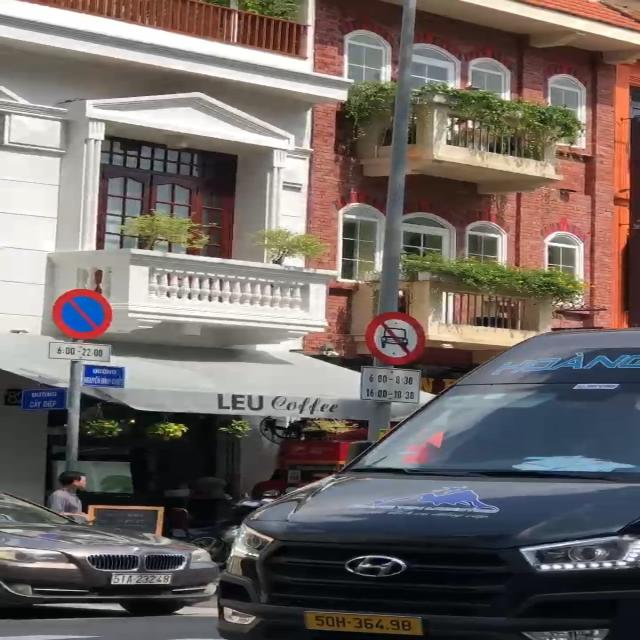Bien bao cam do xe: (51, 288, 114, 340)
Bien bao cam xe oto: (357, 309, 434, 367)
